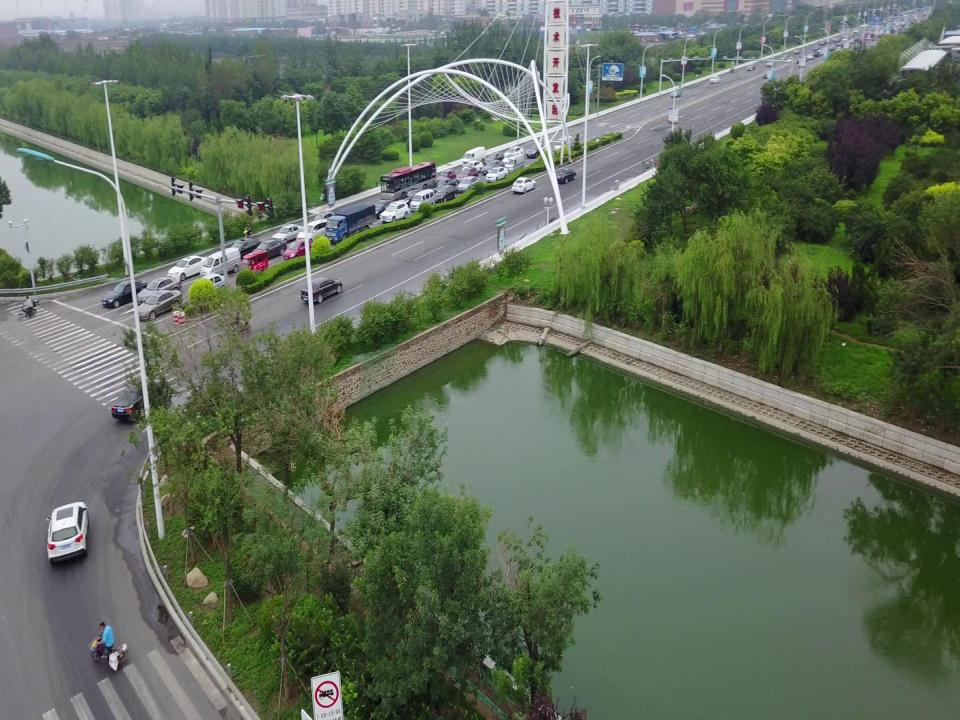bus: (376, 161, 437, 201)
car: (45, 501, 89, 566), (111, 378, 169, 422), (136, 289, 182, 321), (101, 279, 147, 309), (136, 276, 182, 304), (166, 255, 210, 282), (299, 278, 343, 304), (296, 219, 330, 245), (191, 273, 226, 298), (252, 239, 287, 260), (228, 237, 261, 259), (271, 223, 304, 245), (283, 238, 313, 261), (379, 201, 409, 224), (398, 188, 426, 207), (370, 200, 394, 220), (310, 210, 336, 228), (434, 185, 458, 202), (512, 177, 536, 194), (431, 178, 456, 194), (457, 176, 480, 193), (485, 166, 508, 183), (460, 160, 484, 175), (456, 167, 478, 183), (483, 159, 505, 175), (436, 168, 456, 185), (554, 168, 576, 183), (503, 146, 524, 160), (484, 152, 504, 166), (502, 152, 520, 167), (526, 143, 544, 158), (670, 88, 683, 98), (709, 75, 721, 84), (762, 69, 772, 78), (765, 60, 775, 68), (746, 63, 756, 71), (781, 53, 788, 60), (786, 56, 793, 63)
truck: (325, 203, 376, 244)
van: (199, 247, 241, 279), (410, 188, 434, 212), (461, 146, 486, 167), (504, 154, 524, 174), (554, 135, 574, 153)
